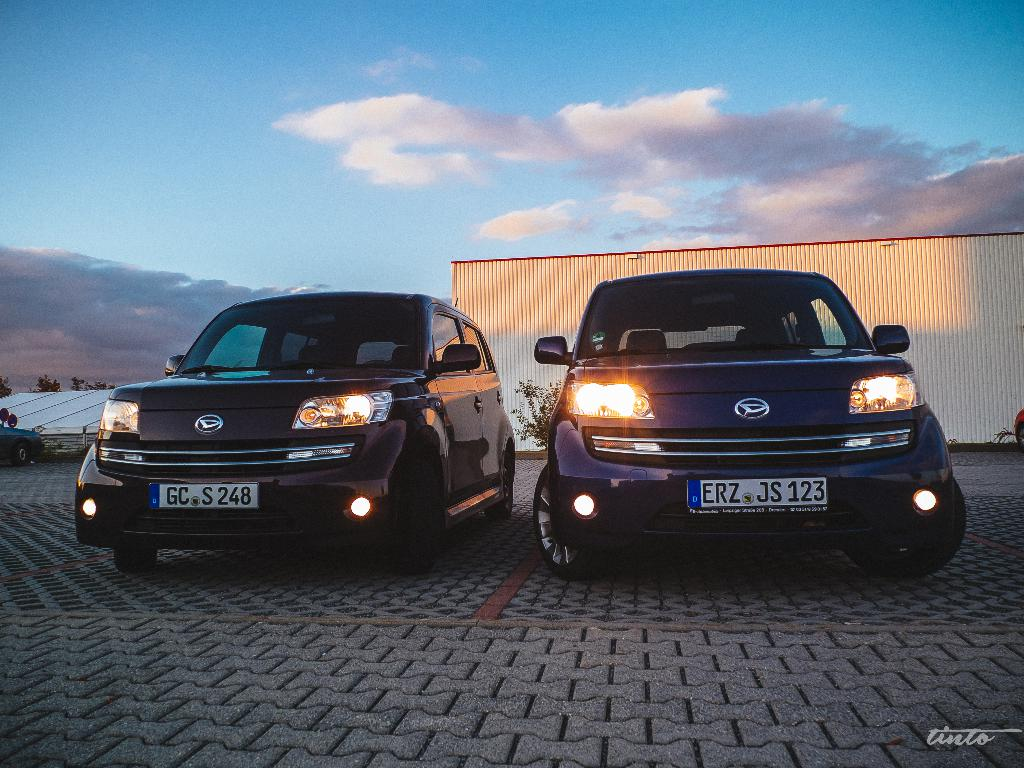Car: (524, 269, 958, 581), (74, 288, 513, 570), (0, 423, 44, 465), (1011, 407, 1023, 444)
